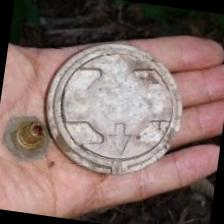M14: (47, 38, 179, 180)
